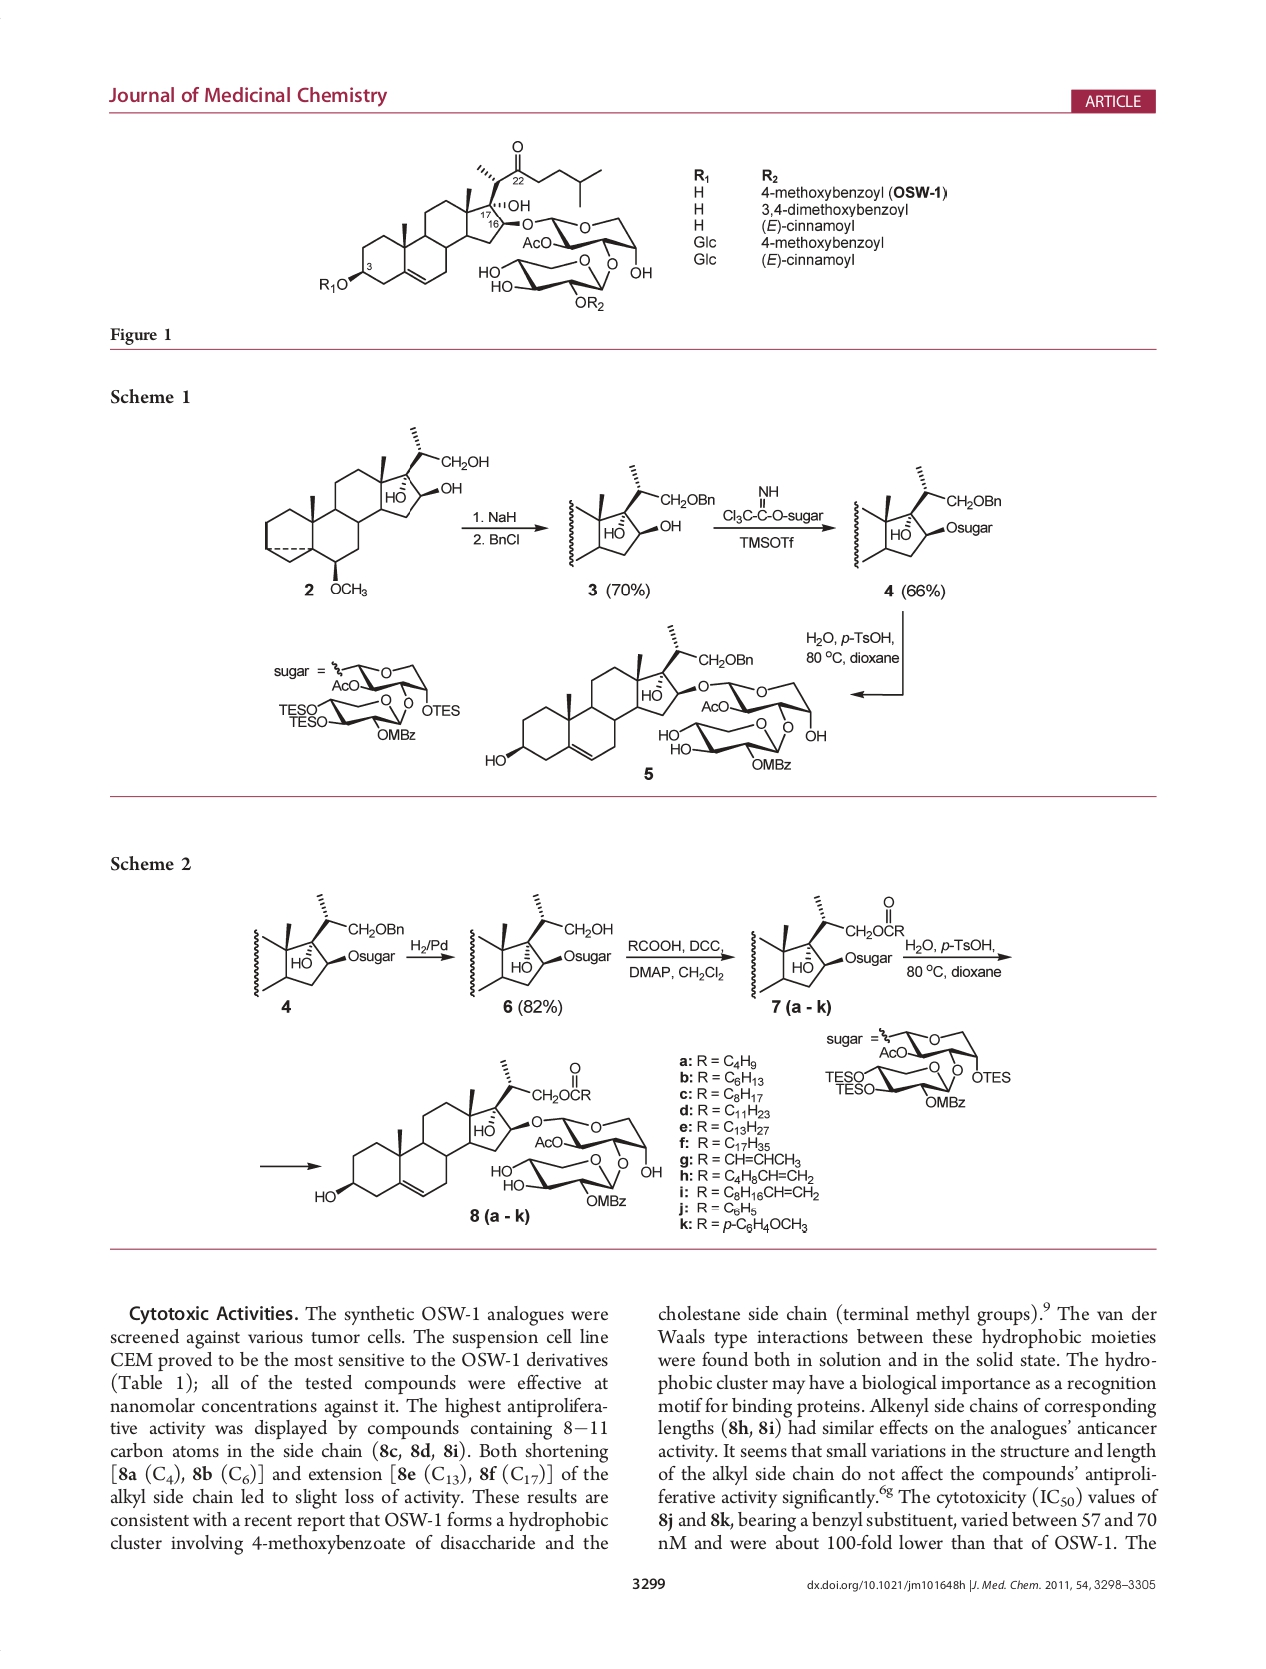exist_molecular: (316, 137, 657, 317), (313, 1056, 668, 1209), (484, 624, 828, 773), (262, 423, 489, 598), (846, 460, 1004, 571), (251, 890, 406, 1000), (823, 1025, 1013, 1113), (746, 896, 907, 1000), (561, 461, 715, 569), (464, 892, 616, 1001), (273, 657, 461, 743), (722, 481, 826, 525)
